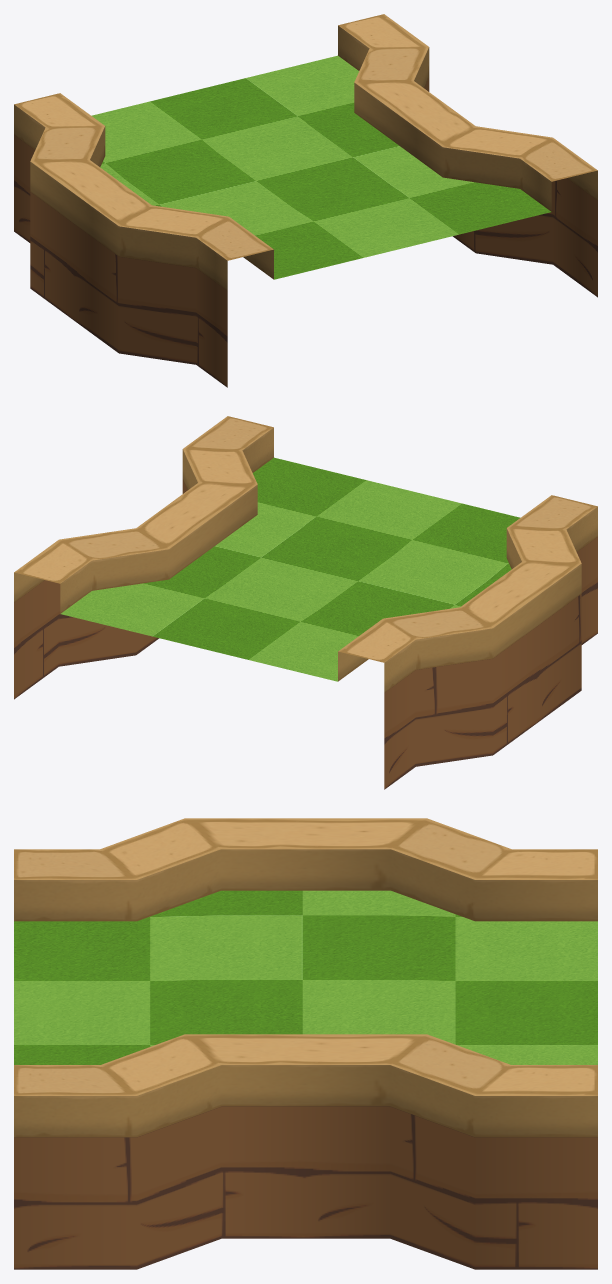
Rendered from tile14.FBX.
The picture shows the model from 3 angles, top to bottom: view 1: azimuth 30°, elevation 25°; view 2: azimuth 150°, elevation 25°; view 3: azimuth 270°, elevation 25°; orthographic projection. The views are drawn at different scales.
Visible parts, largest first — view 1: tile14_walls, tile14_floor; view 2: tile14_walls, tile14_floor; view 3: tile14_walls, tile14_floor.
Boxes of the visible parts, box(x1,y1,x2,y2) form: tile14_walls: box(14, 14, 597, 387); tile14_floor: box(91, 55, 550, 279); tile14_walls: box(14, 416, 597, 789); tile14_floor: box(61, 457, 520, 681); tile14_walls: box(14, 818, 597, 1269); tile14_floor: box(14, 890, 597, 1064).
Bounding box in the file's own units: 1440 × 420 × 1280.
